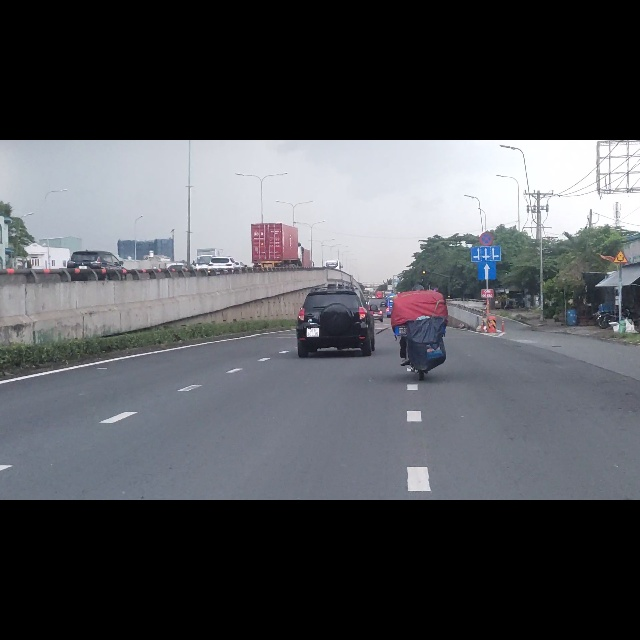bien_chi_dan: (478, 216, 497, 249), (613, 195, 629, 219), (480, 164, 493, 188)
